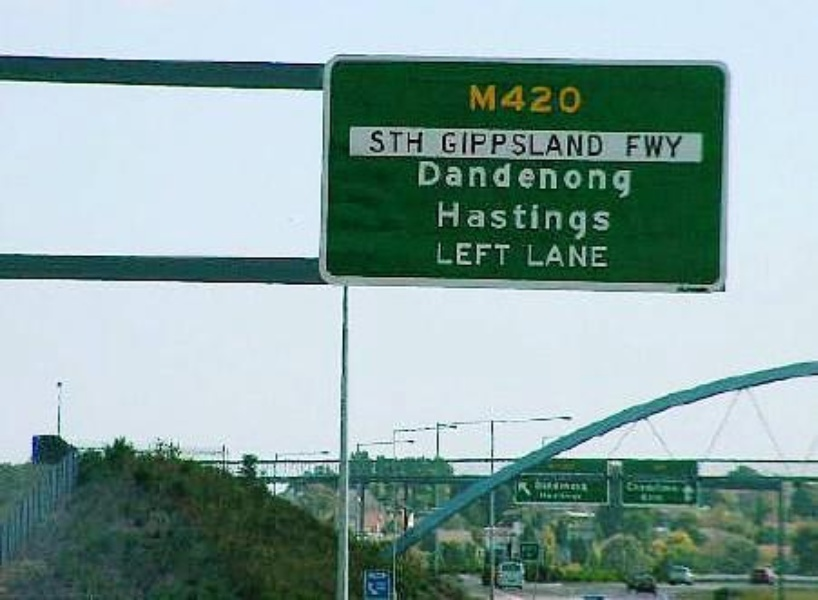text: (449, 200, 464, 242), (465, 200, 480, 242), (481, 200, 496, 242), (497, 200, 512, 242), (513, 200, 528, 242), (529, 200, 544, 242), (545, 200, 560, 242), (561, 200, 576, 242), (577, 200, 592, 242), (593, 200, 608, 242), (433, 158, 448, 198), (449, 158, 464, 198), (465, 158, 480, 198), (481, 158, 496, 198), (497, 158, 512, 198), (513, 158, 528, 198), (529, 158, 544, 198), (545, 158, 560, 198), (561, 158, 576, 198), (577, 158, 592, 198), (593, 158, 608, 198), (609, 158, 624, 198), (418, 158, 432, 198), (481, 82, 496, 115), (497, 82, 512, 115), (513, 82, 528, 115), (529, 82, 544, 115), (545, 82, 560, 115), (561, 82, 576, 115), (438, 200, 448, 242), (449, 131, 464, 158), (465, 131, 480, 158), (481, 131, 496, 158), (497, 131, 512, 158), (513, 131, 528, 158), (529, 131, 544, 158), (545, 131, 560, 158), (561, 131, 576, 158), (577, 131, 592, 158), (468, 82, 480, 115), (449, 242, 464, 267), (465, 242, 480, 267), (481, 242, 496, 267), (497, 242, 512, 267), (529, 245, 544, 269), (545, 245, 560, 269), (561, 245, 576, 269), (577, 245, 592, 269), (593, 245, 608, 269), (641, 135, 656, 158), (657, 135, 672, 158), (369, 131, 384, 153), (385, 131, 400, 153), (401, 131, 416, 153), (626, 135, 640, 158), (625, 158, 633, 198), (436, 242, 448, 267), (593, 131, 604, 158), (673, 135, 684, 158), (545, 477, 560, 492), (561, 477, 576, 492), (577, 477, 592, 492), (609, 200, 614, 242), (593, 477, 606, 492), (625, 481, 640, 494), (641, 481, 656, 494), (657, 481, 672, 494), (372, 579, 384, 595), (441, 131, 448, 158), (545, 492, 560, 503), (561, 492, 576, 503), (577, 82, 581, 115), (417, 131, 423, 153), (536, 477, 544, 492), (385, 579, 392, 595), (534, 492, 544, 503), (641, 494, 656, 501), (673, 481, 681, 494), (577, 492, 585, 503), (657, 494, 666, 501), (526, 245, 528, 269), (609, 245, 610, 269), (637, 494, 640, 501)
